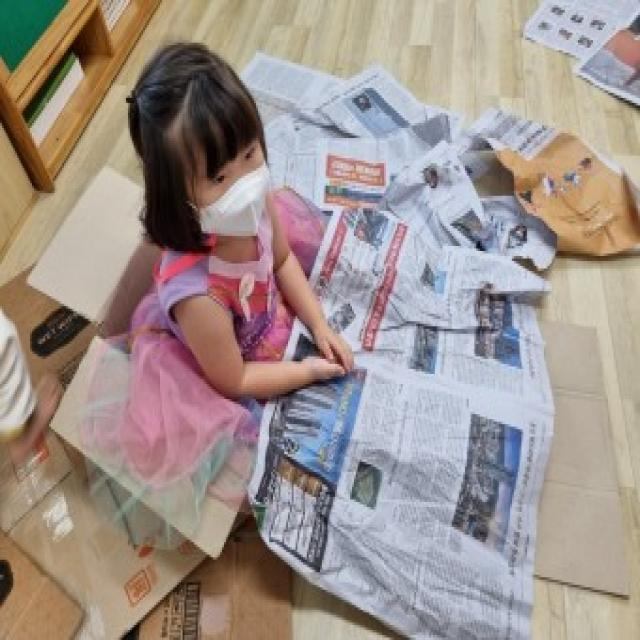Newspaper: (238, 51, 640, 640)
